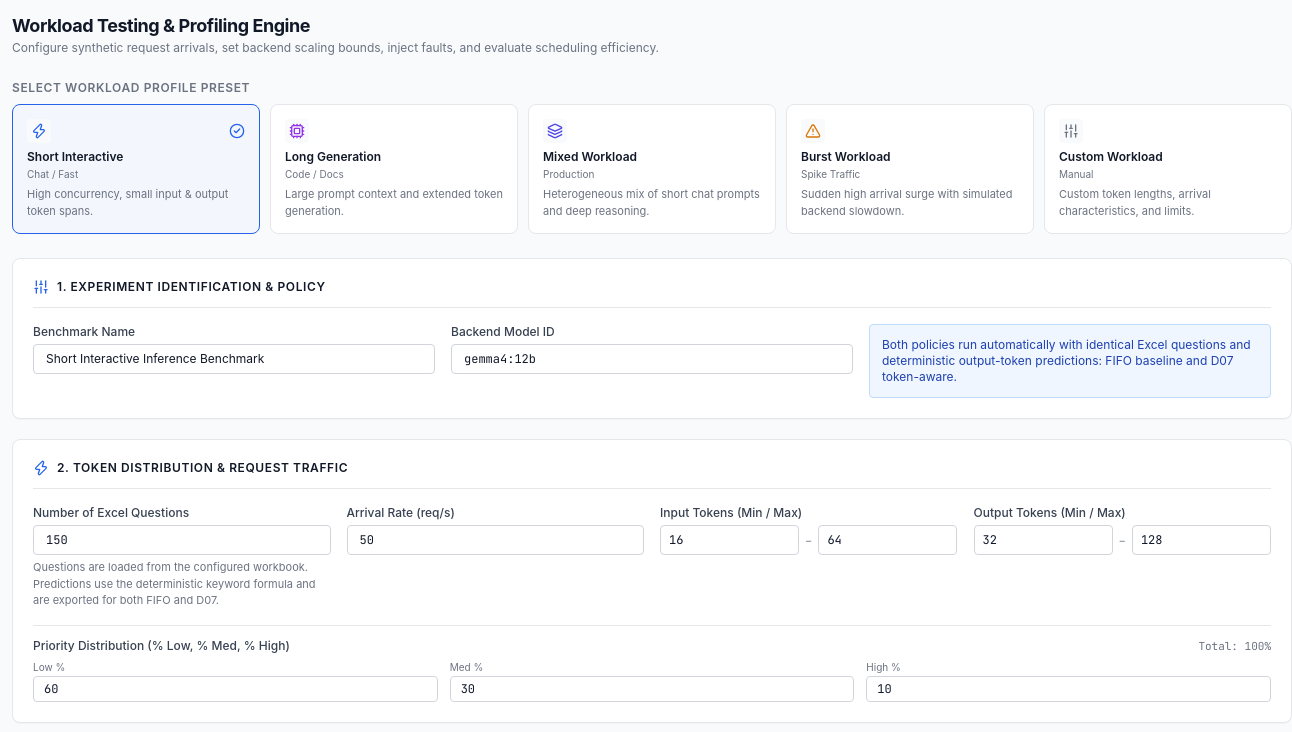
Test: WorkloadTestingPage (JavaScript) › switches preset values when clicked
What coordinates should you click on to do the following:
click the heading "Burst Workload"
I would click on:
 (846, 156)
Its box is top-left (801, 149), bottom-right (890, 164).
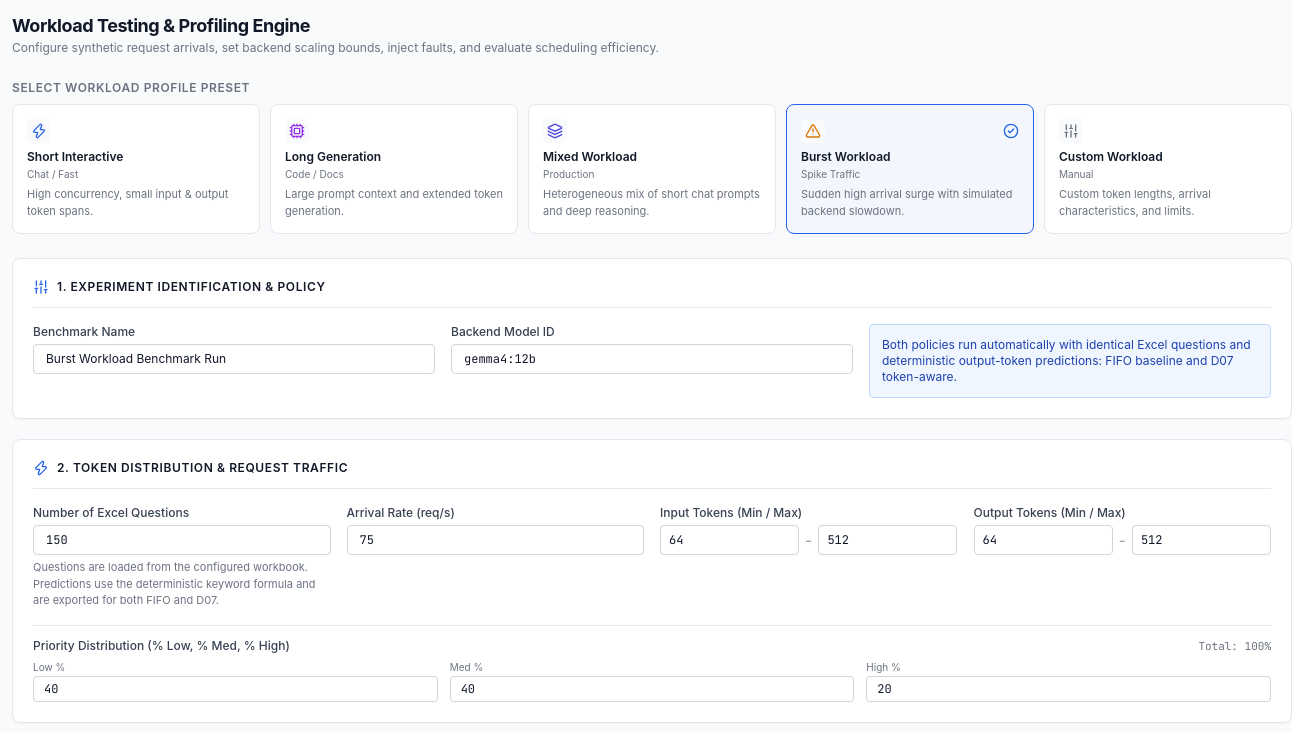
Result: the field showing "Burst Workload Benchmark Run" below "Benchmark Name" is shown at top-left (33, 344), bottom-right (435, 374)
